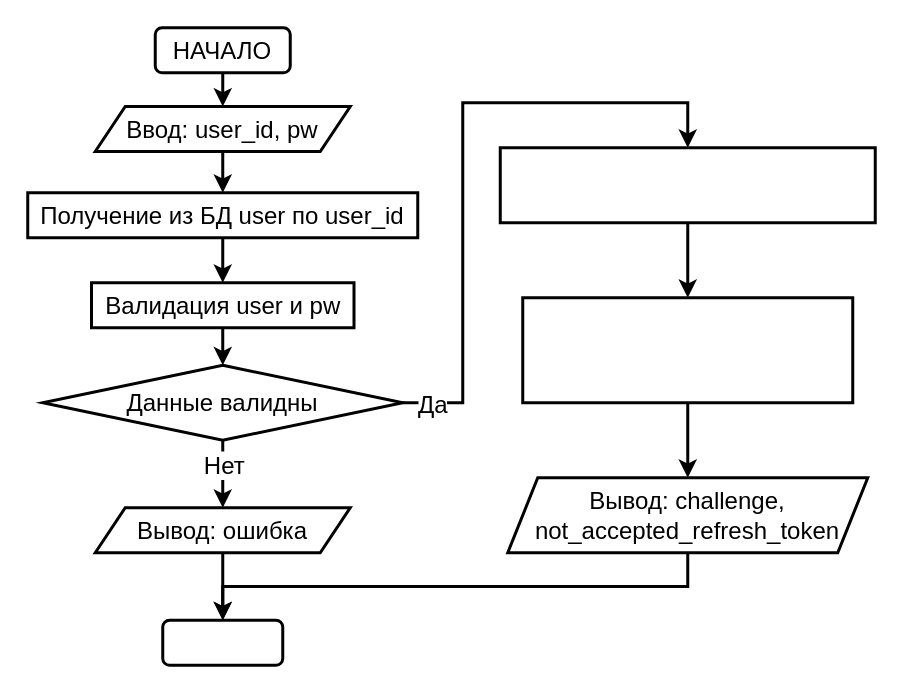
The diagram is 902 pixels wide and 692 high, and some of its shapes have lost their labels. The centre of each missing label's shape, as x and y in pixels:
Выпуск challenge и вставка его зашифрованной копии в БД: the point at 687,185
Выпуск и вставка в БД короткоживущего not_accepted_refresh_token: the point at 687,350
КОНЕЦ: the point at 222,642
